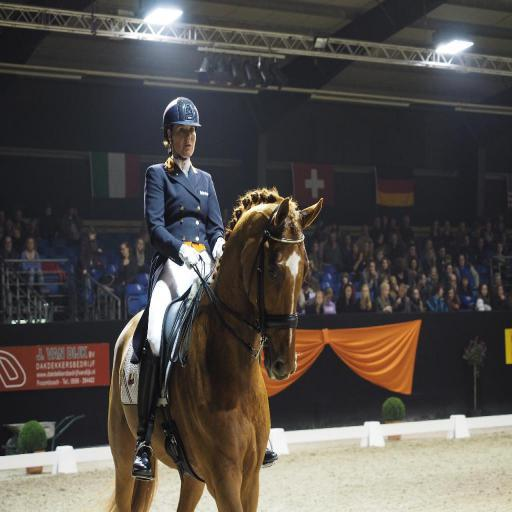Horse: (91, 185, 325, 512)
